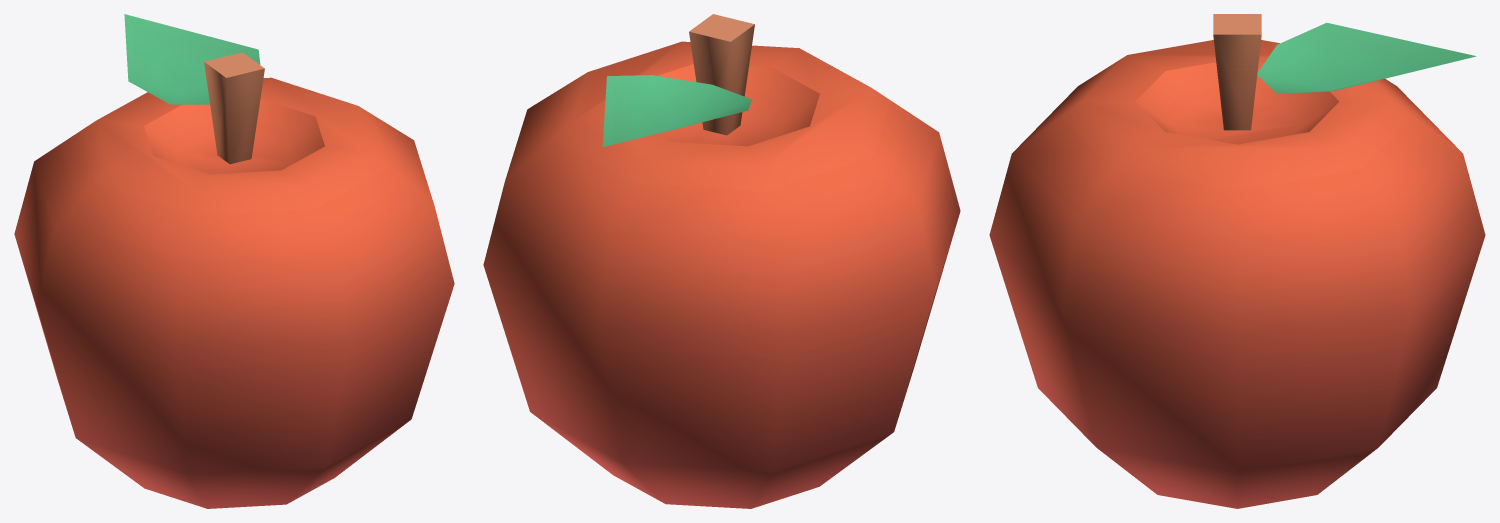
Rendered from apple.glb.
The picture shows the model from 3 angles, left to right: view 1: azimuth 30°, elevation 25°; view 2: azimuth 150°, elevation 25°; view 3: azimuth 270°, elevation 25°; orthographic projection. The views are drawn at different scales.
Parts seen in each view (by area): view 1: apple; view 2: apple; view 3: apple.
Part boxes in pixels (x1,y1,x2,y2): apple: (14, 14, 454, 508); apple: (483, 14, 960, 508); apple: (989, 14, 1485, 508).
Bounding box in the file's own units: 0.1963 × 0.1908 × 0.1963.
Materials: 1 (1 with a texture image).
